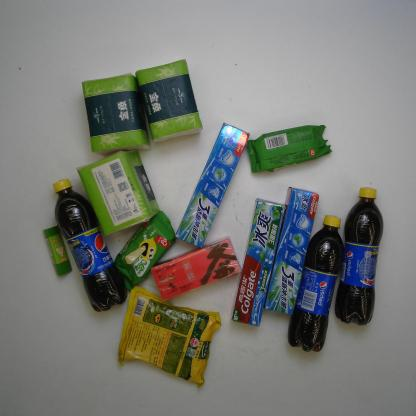Dessert: (114, 210, 177, 291), (246, 124, 334, 174)
Drink: (52, 177, 128, 313), (287, 214, 345, 353), (333, 186, 385, 326)
Instant Drink: (150, 235, 243, 302)
Personal Hygiene: (174, 121, 250, 248), (229, 197, 287, 328), (264, 186, 320, 316)
Seasoner: (117, 287, 221, 387)
Stationery: (42, 222, 74, 277)
Tissue: (75, 149, 161, 239), (134, 58, 203, 144), (81, 72, 151, 154)
